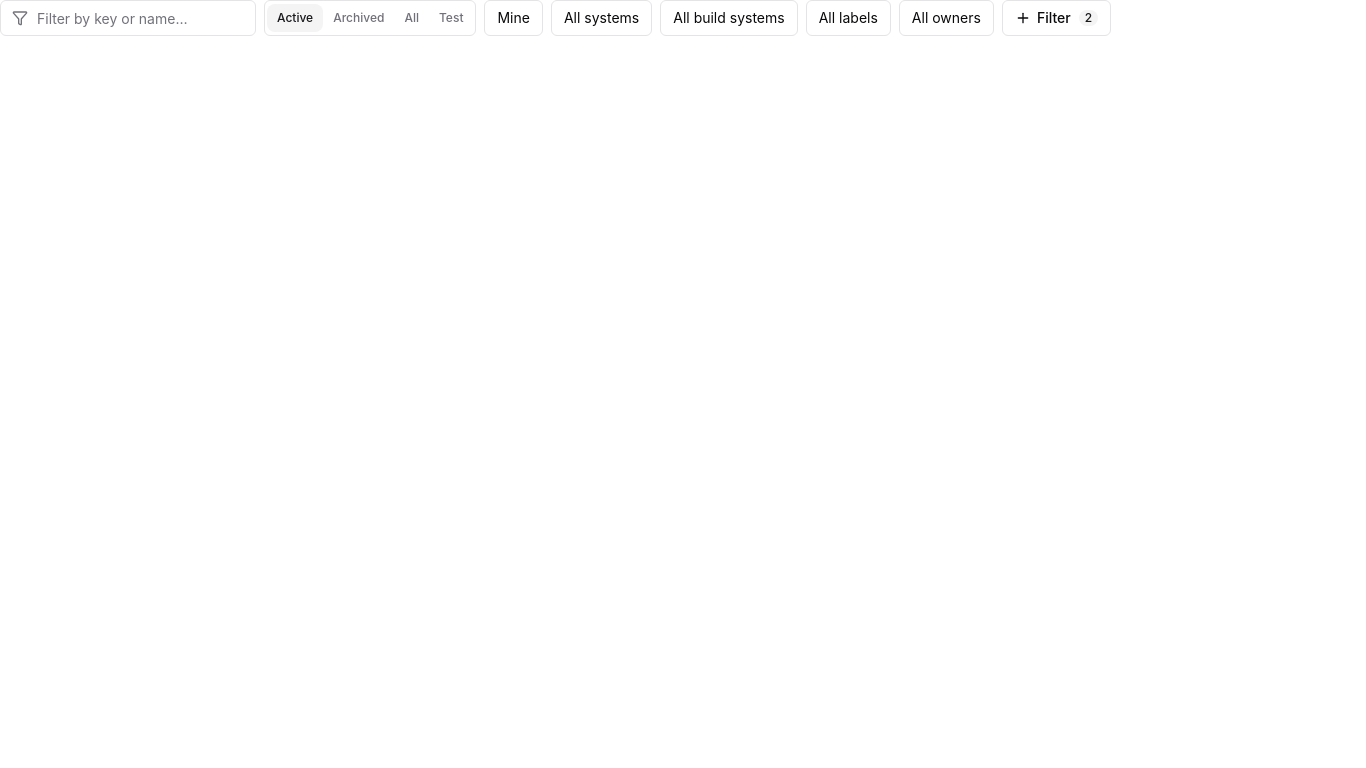
Test: ComponentFilters "+ Filter" panel (extended dimensions) › an extended filter that holds a value never grows the bar: the button counts it and the list shows it
Expected: the field labelled "Jira project key" is not shown
Click the button with aria-label "Add filter": point(1056, 18) top-left (1002, 0), bottom-right (1111, 36)
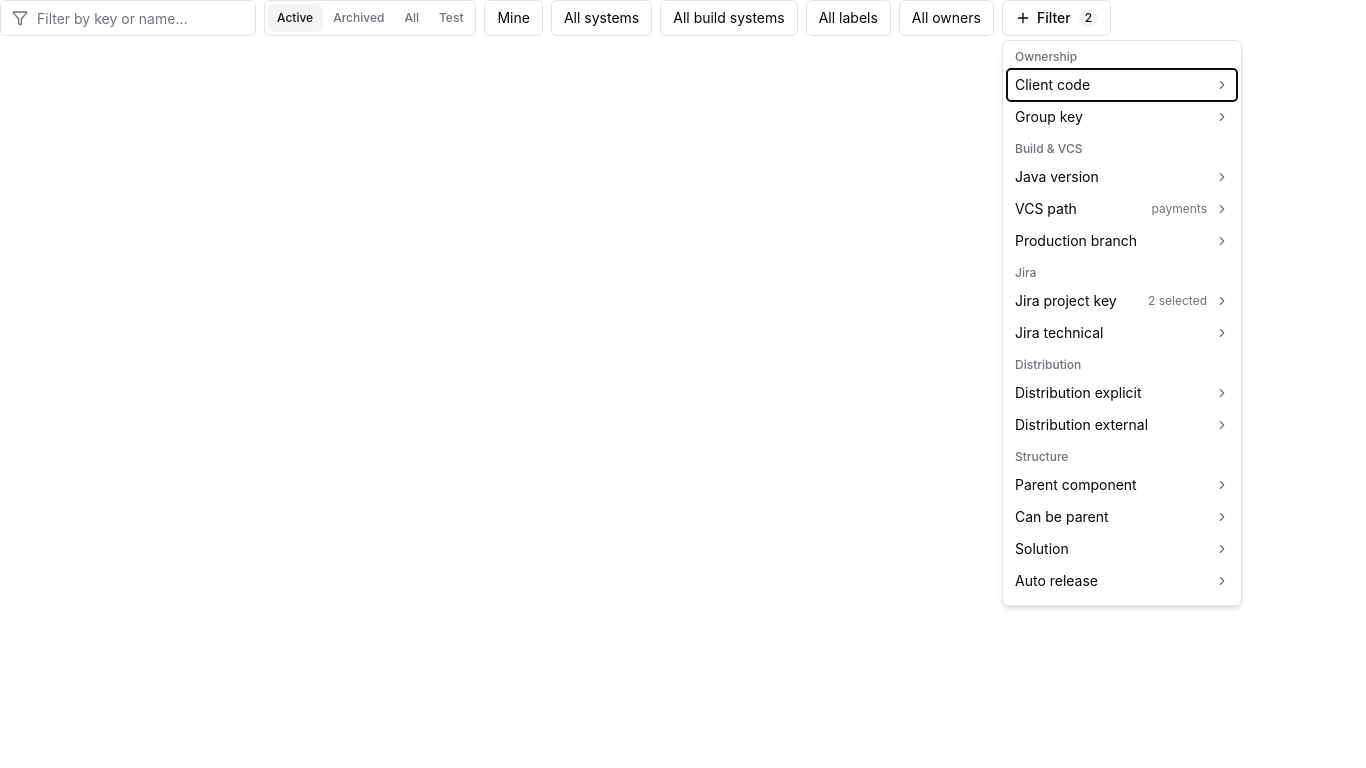
Expected: the button "Jira project key 2 selected" is shown, top-left (1007, 285), bottom-right (1237, 317)
Expected: the button "VCS path payments" is shown, top-left (1007, 193), bottom-right (1237, 225)
